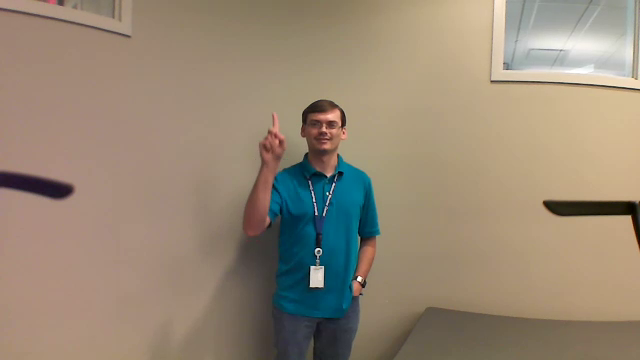up: (255, 108, 289, 171)
